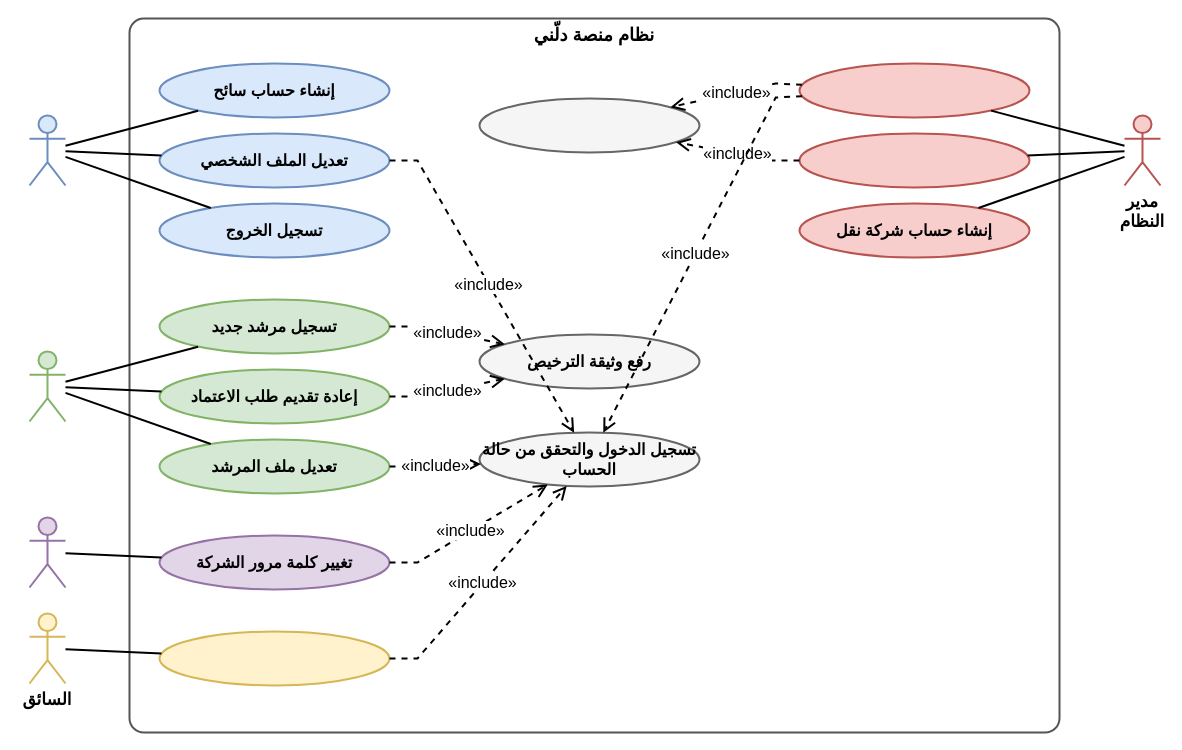
The diagram is 1182 pixels wide and 750 high, and some of its shapes have lost their labels. Each missing label, with the centre of its shape:
"إرسال إشعار" goes at pixel 589 125.
"إيقاف أو تفعيل حساب سائح" goes at pixel 914 160.
"اعتماد أو رفض المرشد" goes at pixel 914 90.
"السائح" goes at pixel 47 150.
"المرشد السياحي" goes at pixel 47 386.
"تغيير كلمة مرور السائق" goes at pixel 274 658.
"شركة النقل" goes at pixel 47 552.
